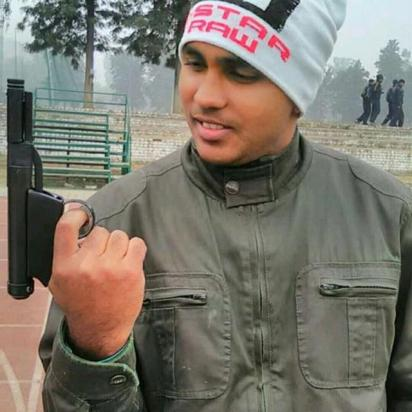Gun: (0, 74, 147, 305)
